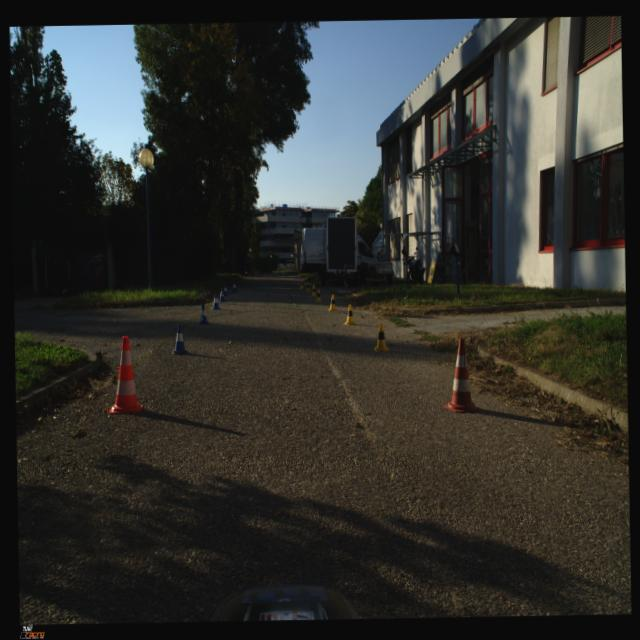blue_cone: (170, 323, 188, 354), (198, 303, 208, 324), (212, 293, 220, 309), (218, 288, 225, 302), (223, 284, 228, 296), (232, 282, 238, 292)
large_orange_cone: (107, 336, 143, 414), (442, 337, 479, 412)
yellow_cone: (374, 322, 389, 352), (342, 304, 357, 325), (327, 294, 337, 311), (314, 288, 322, 302), (310, 284, 316, 296), (304, 282, 310, 292), (300, 279, 304, 289)
